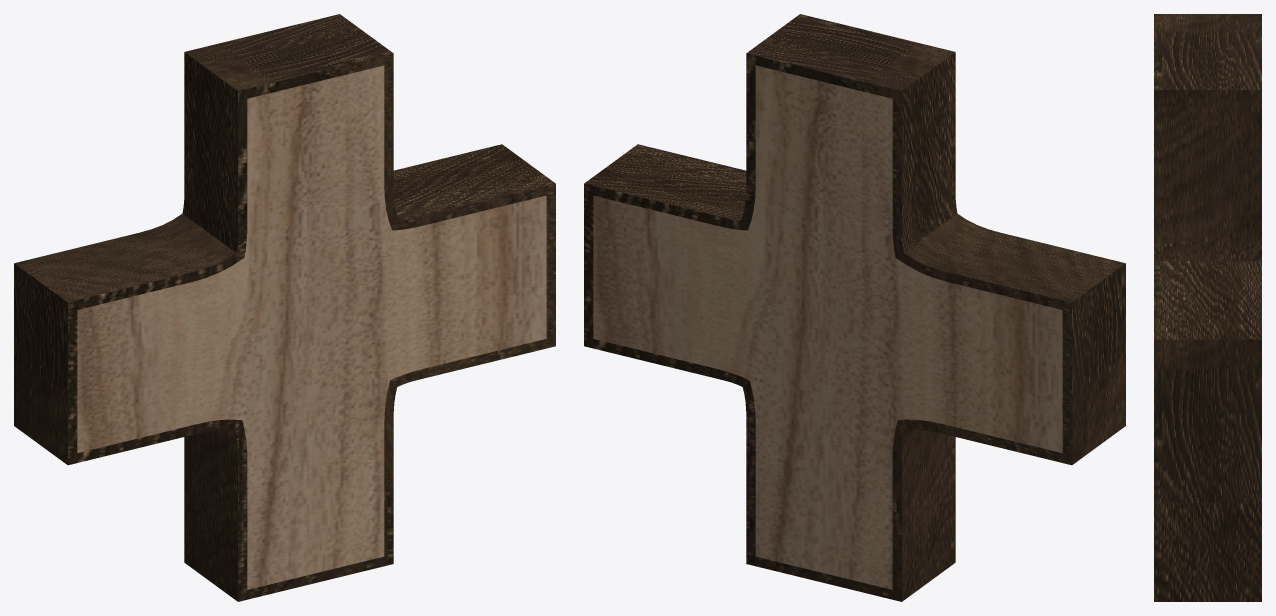
Rendered from Plus.FBX.
The picture shows the model from 3 angles, left to right: view 1: azimuth 30°, elevation 25°; view 2: azimuth 150°, elevation 25°; view 3: azimuth 270°, elevation 25°; orthographic projection.
Visible parts, largest first — view 1: Plus, Plus_outline; view 2: Plus, Plus_outline; view 3: Plus_outline.
Part boxes in pixels (x1,y1,x2,y2): Plus: (77,65,546,589); Plus_outline: (14,14,555,601); Plus: (593,65,1062,589); Plus_outline: (584,14,1125,601); Plus_outline: (1154,14,1261,601).
Bounding box in the file's own units: 52.4 × 52.4 × 10.
Materials: 2 (2 with a texture image).
